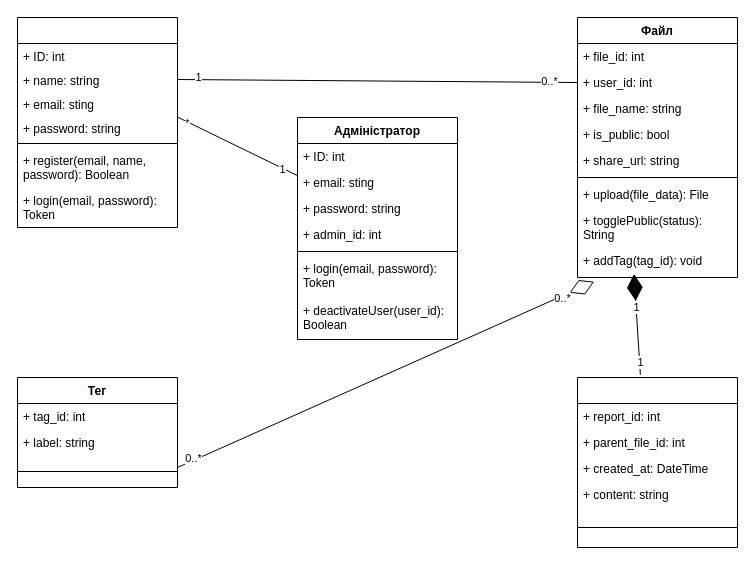
The diagram is 755 pixels wide and 565 high, and some of its shapes have lost their labels. Each missing label, with the box of its shape:
Звіт: (576, 376, 738, 548)
Користувач: (16, 16, 178, 228)
